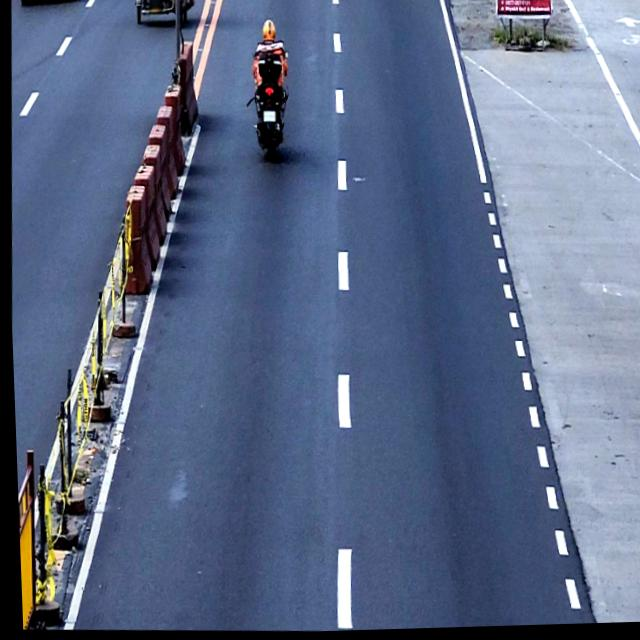License-Plate: (261, 112, 275, 124)
Motorcycle: (241, 41, 291, 164)
Tricycle: (133, 0, 194, 29)
